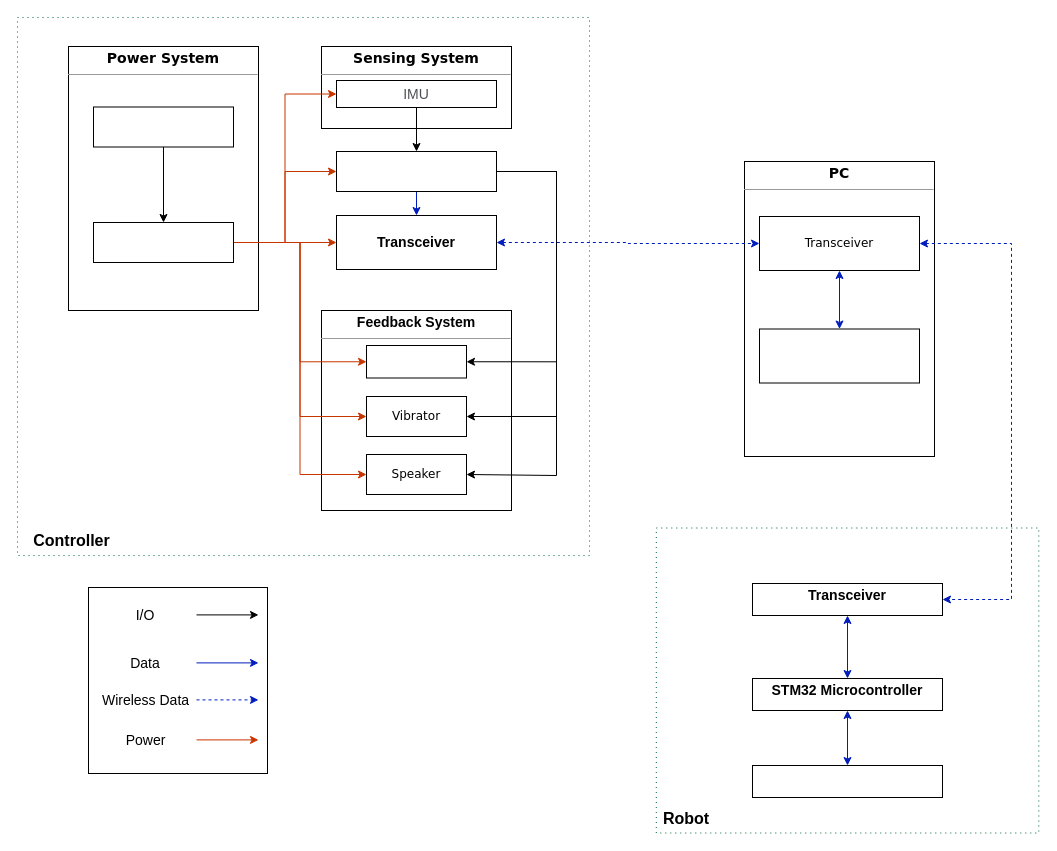
This 1057x851 diagram has some shape labels left out. Each missing label, with the centre of its shape:
Embedded Processor: the point at 416,171
Gesture Regulation Software: the point at 839,355
LED: the point at 416,361
Li-ion Battery: the point at 163,126
Motors: the point at 847,781
Voltage Regulator: the point at 163,242
